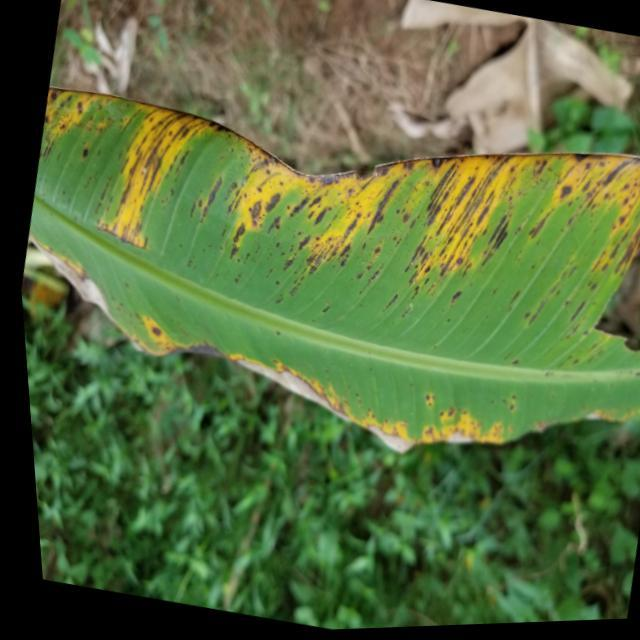Early_rust: (30, 55, 640, 494)
